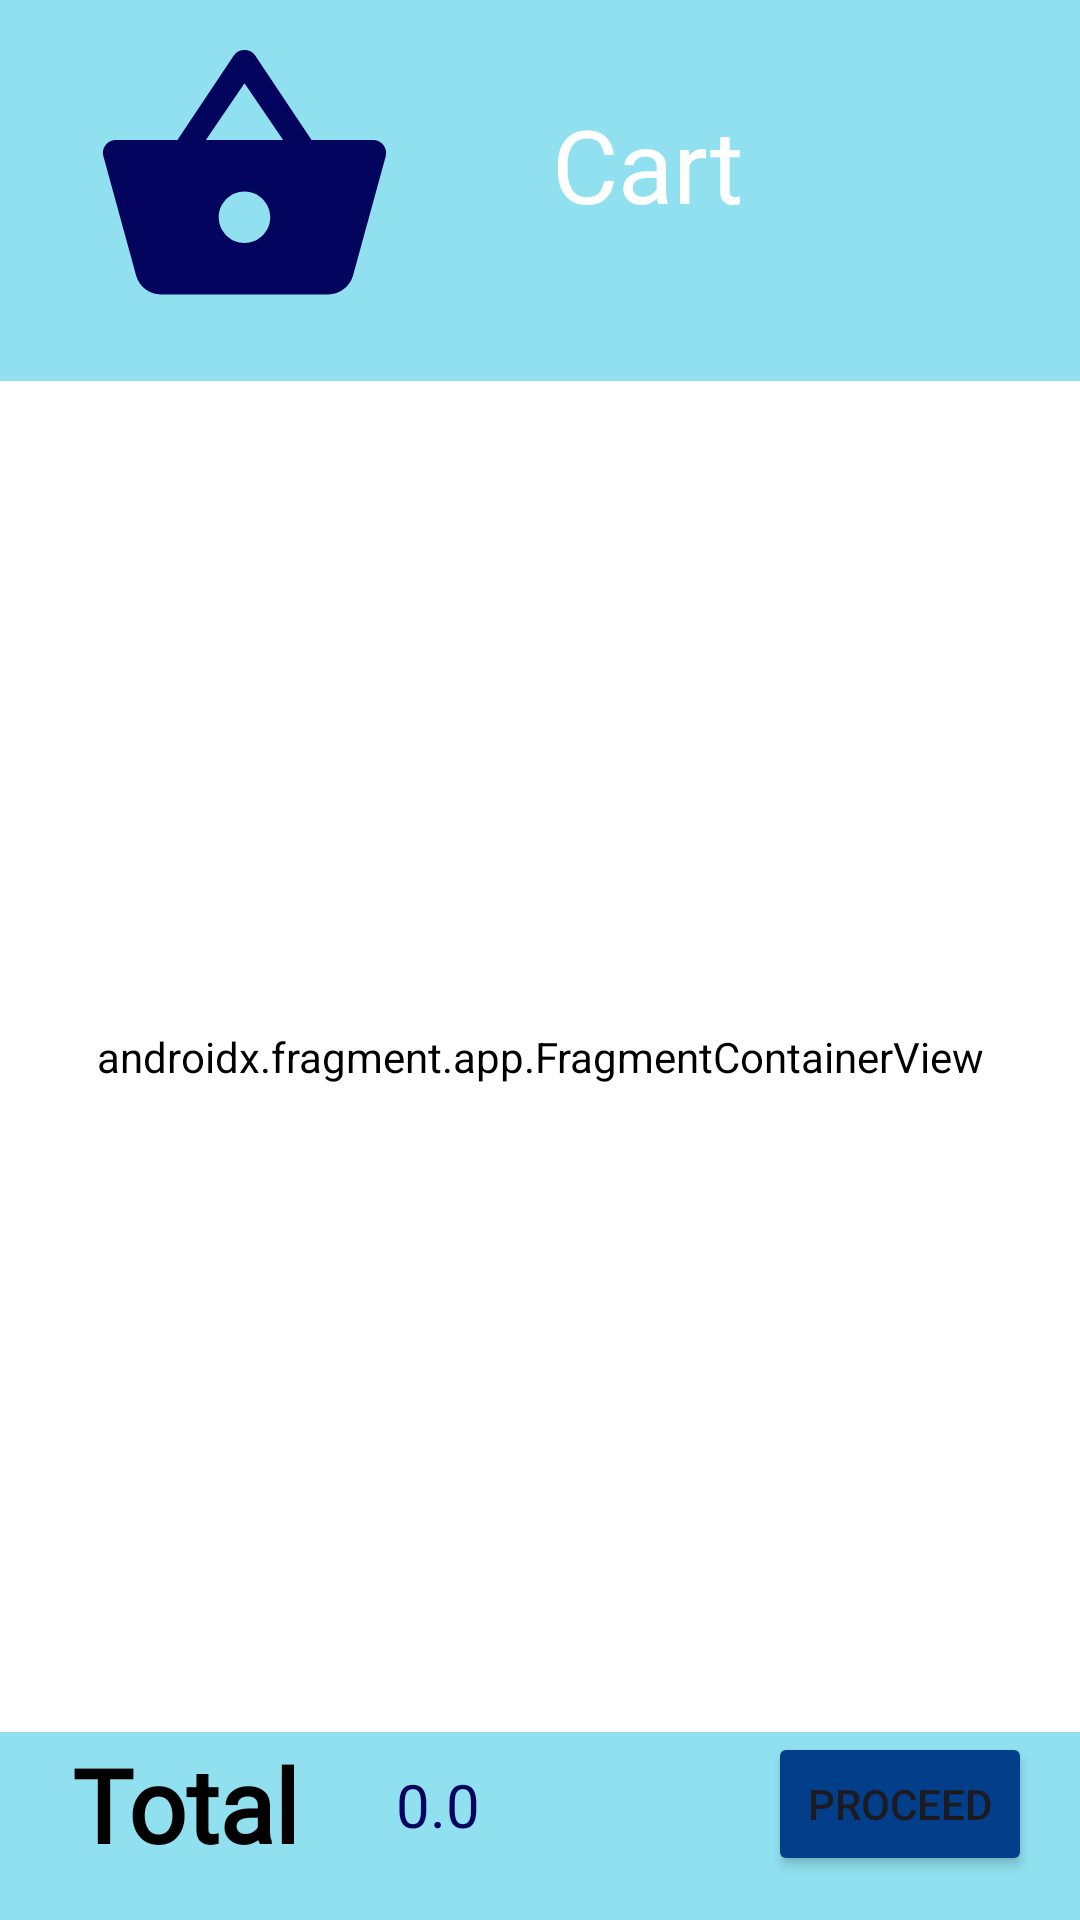

Named icons in this screenshot (1080 × 1920) and their bounding boxes, (x1, y1, x2, y2):
shopping basket: (103, 50, 386, 295)
